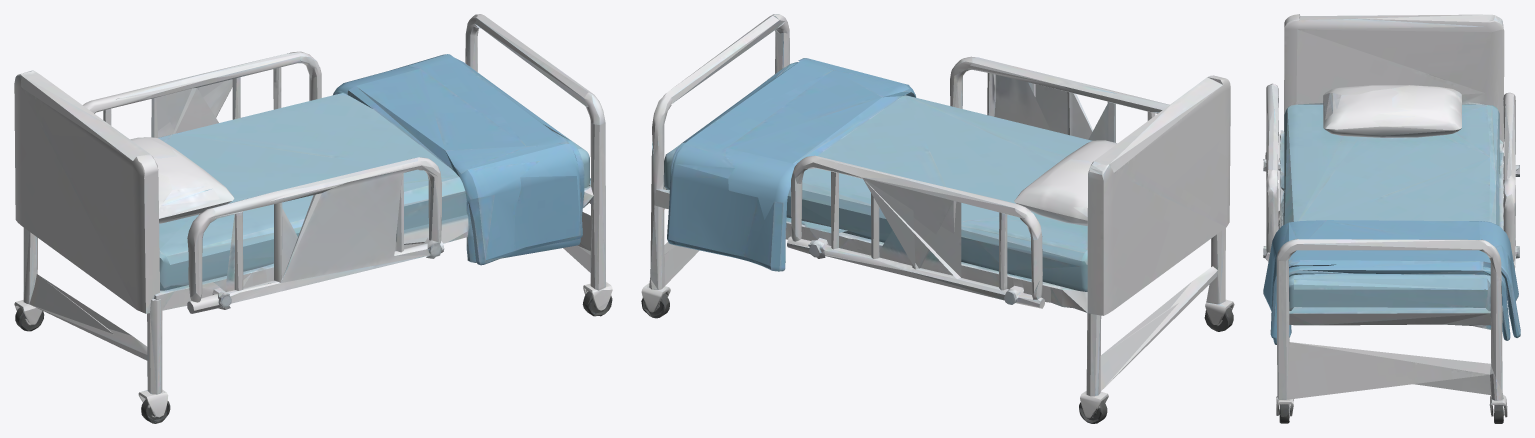
The model's file is bed.glb.
3 renders of one model, left to right at view 1: azimuth 30°, elevation 25°; view 2: azimuth 150°, elevation 25°; view 3: azimuth 270°, elevation 25°, orthographic. The views are drawn at different scales.
Size of the model in its own units: 1.9 by 1.02 by 1.07.
1 material, 1 textured.
